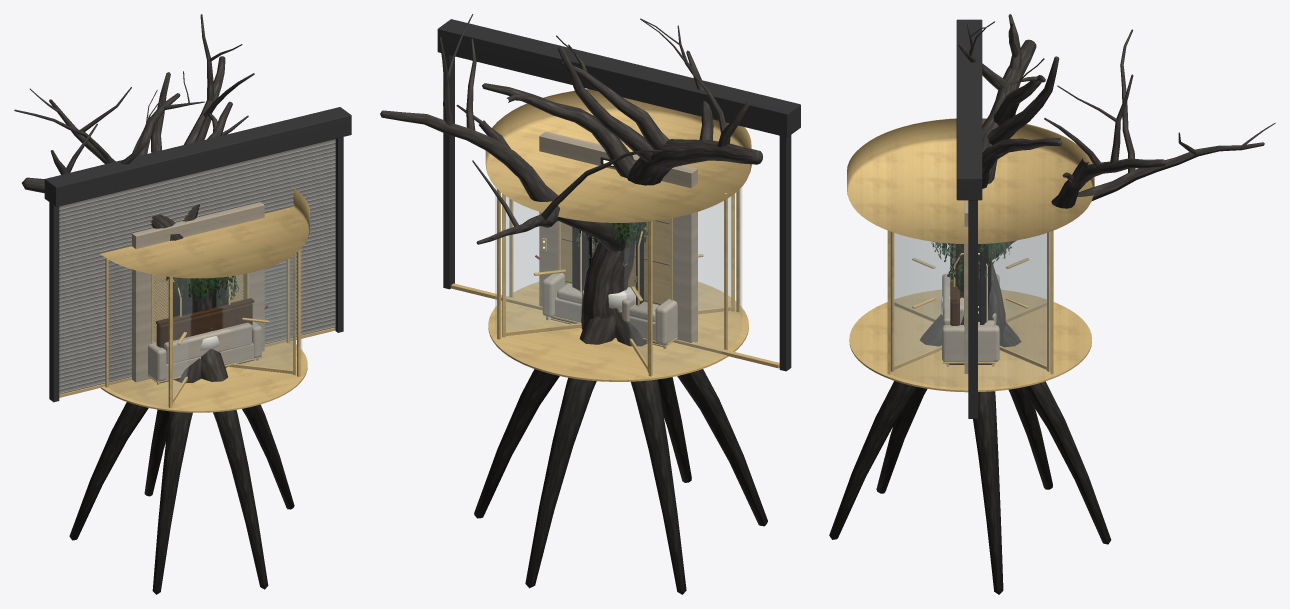
File: props.glb
The picture shows the model from 3 angles, left to right: view 1: azimuth 30°, elevation 25°; view 2: azimuth 150°, elevation 25°; view 3: azimuth 270°, elevation 25°; orthographic projection. The views are drawn at different scales.
Visible parts, largest first — view 1: securityShutter, revolvingDoor, tree, revolvingDoor_wings, elevatorDoors, sofa, booth, planterTree, locker, fence; view 2: revolvingDoor, tree, securityShutter, revolvingDoor_wings, elevatorDoors, sofa, locker, planterTree; view 3: revolvingDoor, tree, revolvingDoor_wings, securityShutter, sofa, locker, planterTree, elevatorDoors.
Boxes of the visible parts, <box> form: securityShutter: <box>44,107,351,402</box>; revolvingDoor: <box>100,188,309,412</box>; tree: <box>14,14,294,594</box>; revolvingDoor_wings: <box>172,253,295,404</box>; elevatorDoors: <box>131,202,264,382</box>; sofa: <box>147,321,262,384</box>; booth: <box>156,298,254,383</box>; planterTree: <box>166,276,238,304</box>; locker: <box>173,276,228,316</box>; fence: <box>153,275,243,342</box>; revolvingDoor: <box>485,89,751,381</box>; tree: <box>380,14,767,594</box>; securityShutter: <box>437,19,800,371</box>; revolvingDoor_wings: <box>502,193,734,372</box>; elevatorDoors: <box>539,131,697,342</box>; sofa: <box>542,273,677,348</box>; locker: <box>572,222,643,304</box>; planterTree: <box>573,222,647,250</box>; revolvingDoor: <box>847,118,1094,392</box>; tree: <box>829,14,1275,594</box>; revolvingDoor_wings: <box>890,232,1050,371</box>; securityShutter: <box>956,19,982,418</box>; sofa: <box>942,273,999,366</box>; locker: <box>955,243,993,324</box>; planterTree: <box>931,241,1011,288</box>; elevatorDoors: <box>964,200,978,373</box>.
Bounding box in the file's own units: 6.21 × 9.18 × 7.36.
Materials: 47 (15 with a texture image).
